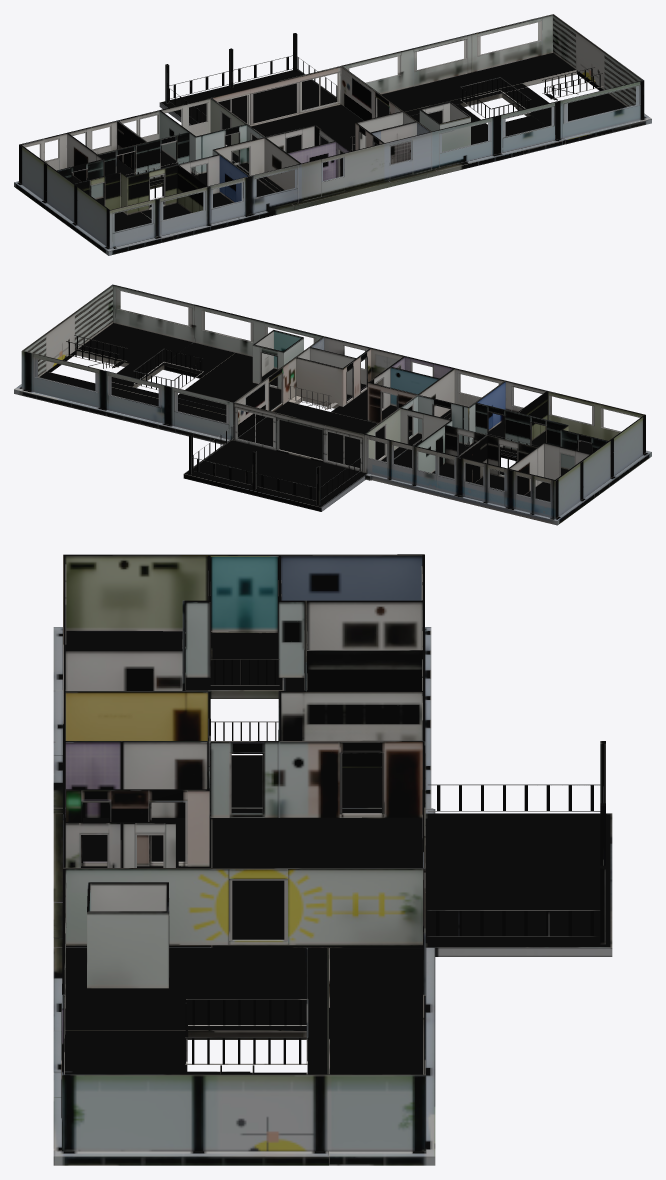
The model's file is world_shell1.glb.
3 renders of one model, top to bottom at view 1: azimuth 30°, elevation 25°; view 2: azimuth 150°, elevation 25°; view 3: azimuth 270°, elevation 25°, orthographic. The views are drawn at different scales.
Visible parts, largest first — view 1: W_shell1; view 2: W_shell1; view 3: W_shell1.
Part boxes in pixels (left/top/right/bottom): W_shell1: left=14, top=14, right=651, bottom=255; W_shell1: left=14, top=284, right=651, bottom=525; W_shell1: left=53, top=554, right=612, bottom=1165.
Bounding box in the file's own units: 38.22 × 2.99 × 17.04.
1 material, 1 textured.
